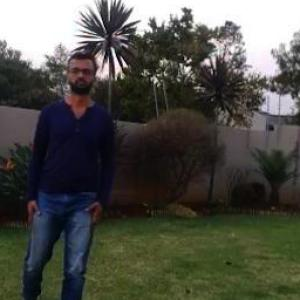follow: (22, 36, 118, 299)
